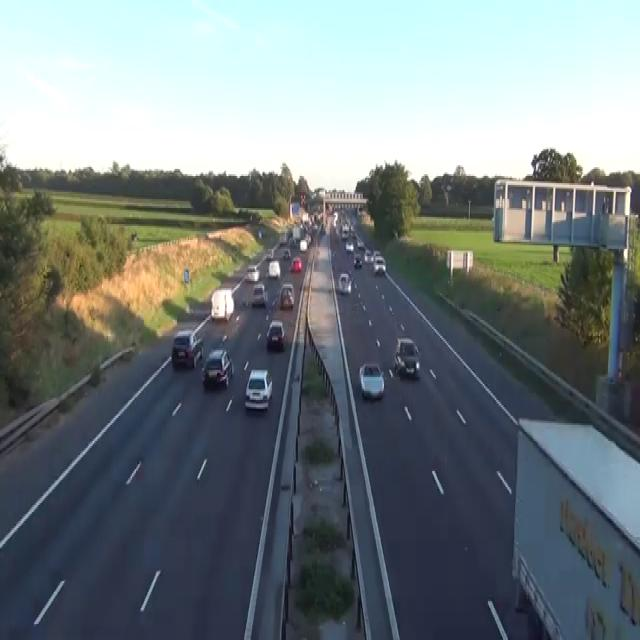Car: (201, 348, 233, 388), (171, 329, 203, 368), (244, 368, 272, 411), (393, 336, 420, 377), (359, 363, 384, 400), (266, 318, 285, 348), (279, 282, 294, 308), (251, 282, 267, 306), (336, 272, 351, 293), (88, 362, 100, 386), (373, 256, 386, 274), (267, 260, 280, 278), (289, 256, 302, 272), (246, 265, 259, 281), (364, 249, 373, 263), (353, 254, 362, 267), (299, 238, 307, 251), (283, 247, 291, 260), (345, 240, 353, 252), (356, 238, 364, 249), (288, 237, 296, 247), (341, 229, 348, 240), (279, 235, 286, 245), (304, 235, 311, 245), (373, 249, 380, 258), (130, 231, 137, 240), (350, 226, 356, 236), (356, 206, 361, 217), (268, 249, 273, 258), (258, 230, 262, 238)
Truck: (511, 416, 639, 638), (210, 288, 234, 322), (446, 249, 473, 277)
